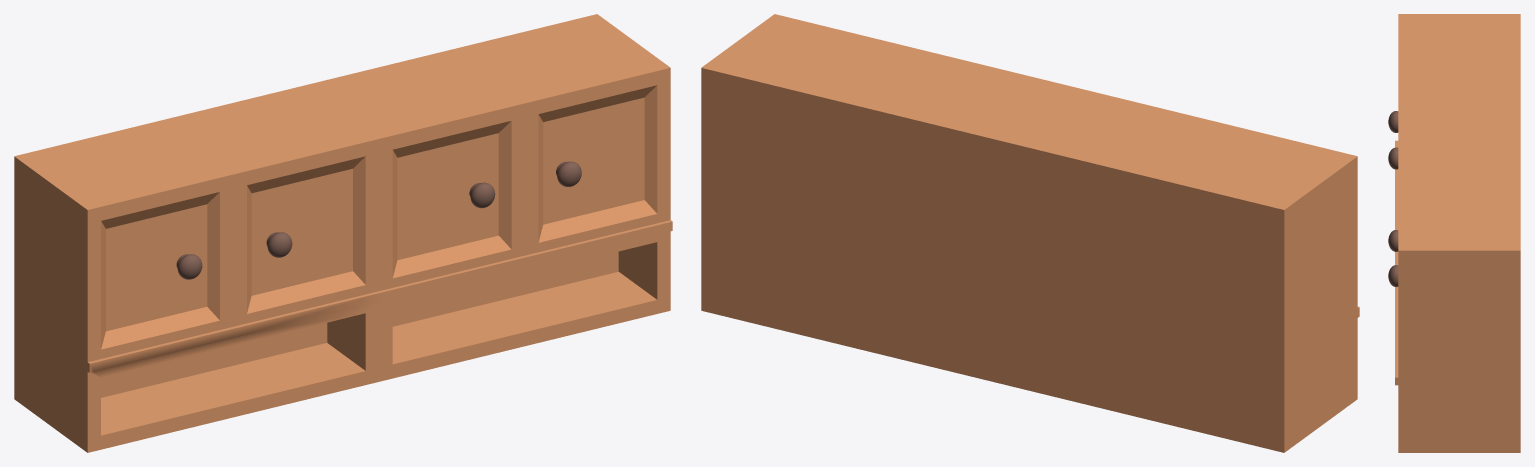
File: dinggui.fbx
3 views of the same model, side by side, from view 1: azimuth 30°, elevation 25°; view 2: azimuth 150°, elevation 25°; view 3: azimuth 270°, elevation 25° (orthographic). The views are drawn at different scales.
Parts seen in each view (by area): view 1: Box028, Sphere009; view 2: Box028; view 3: Box028, Sphere009.
Boxes of the visible parts, <box> form: Box028: <box>14,14,672,452</box>; Sphere009: <box>176,161,581,279</box>; Box028: <box>701,14,1359,452</box>; Box028: <box>1395,14,1520,452</box>; Sphere009: <box>1388,111,1398,286</box>.
Size of the model in its own units: 35.86 by 14.27 by 8.47.
